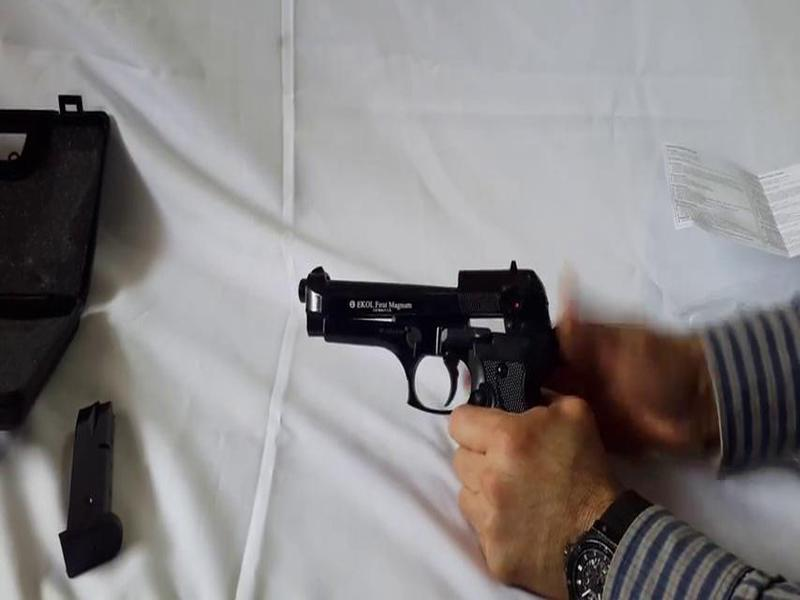Pistola: (261, 235, 568, 472)
